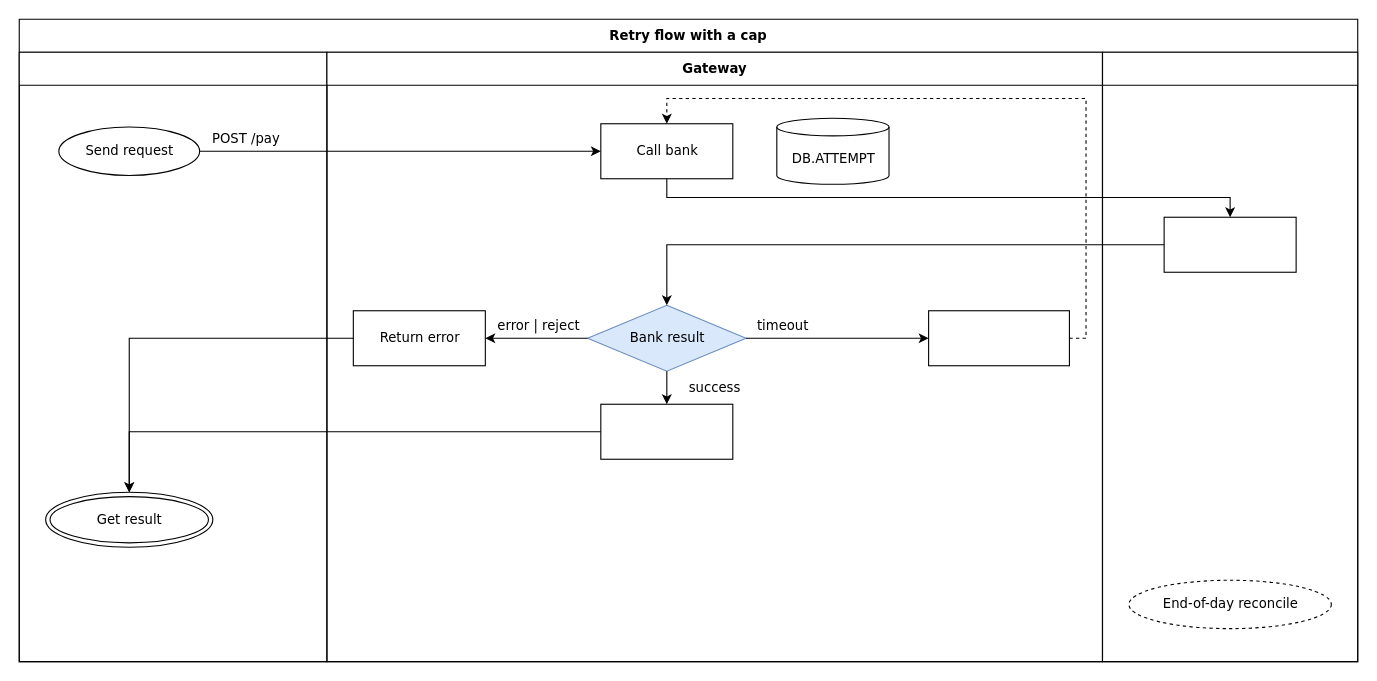
The diagram is 1377 pixels wide and 681 high, and some of its shapes have lost their labels. Each missing label, with the box of its shape:
Bank: (1101, 51, 1358, 662)
Client: (18, 51, 327, 662)
Increment attempts: (928, 310, 1069, 366)
Process: (1163, 216, 1296, 272)
Return result: (600, 403, 733, 459)
